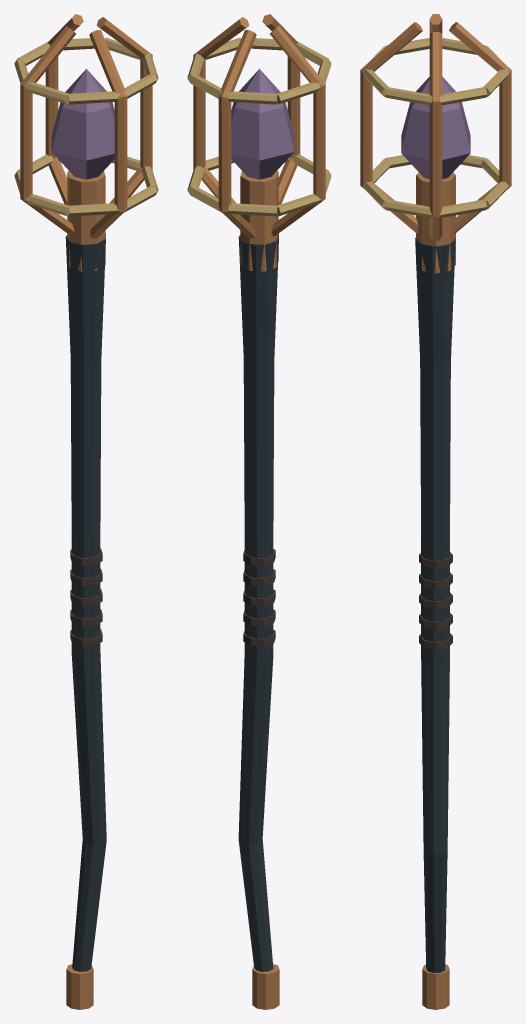
The model's file is AEW_Staff_StarCage.fbx.
3 renders of one model, left to right at view 1: azimuth 30°, elevation 25°; view 2: azimuth 150°, elevation 25°; view 3: azimuth 270°, elevation 25°, orthographic.
Visible parts, largest first — view 1: AEW_Staff_StarCage; view 2: AEW_Staff_StarCage; view 3: AEW_Staff_StarCage.
Part boxes in pixels (<box>): AEW_Staff_StarCage: <box>14,14,158,1009</box>; AEW_Staff_StarCage: <box>187,14,331,1009</box>; AEW_Staff_StarCage: <box>360,14,511,1009</box>.
Size of the model in its own units: 0.3016 by 2.19 by 0.3049.
